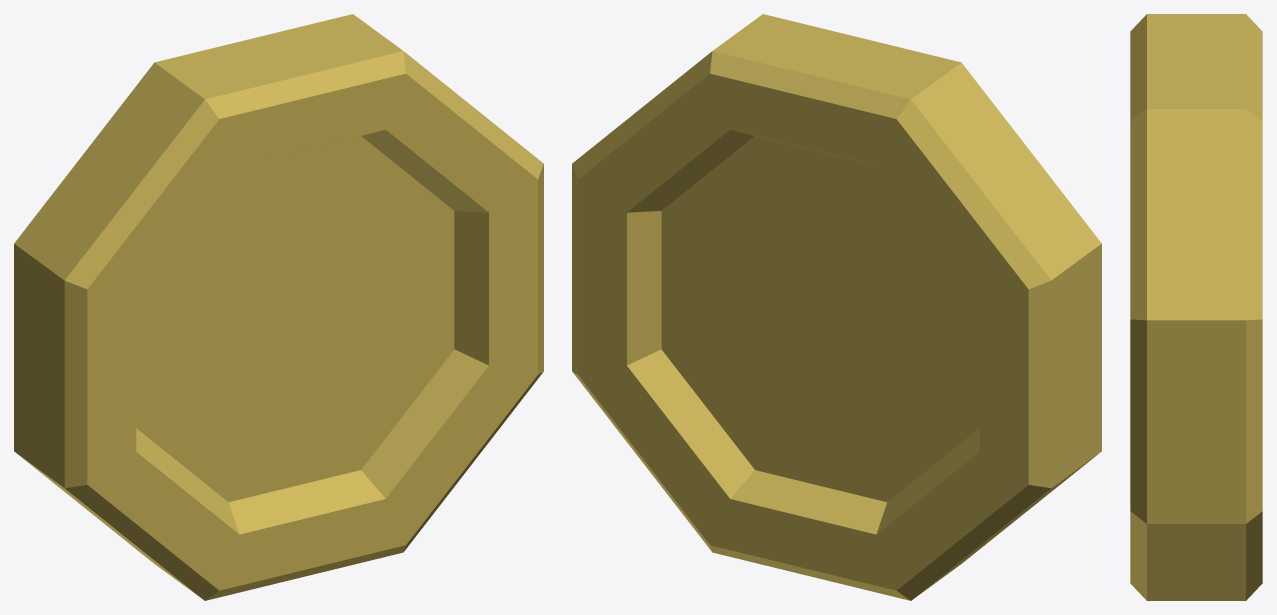
Rendered from Coin_3.fbx.
3 renders of one model, left to right at view 1: azimuth 30°, elevation 25°; view 2: azimuth 150°, elevation 25°; view 3: azimuth 270°, elevation 25°, orthographic.
Parts seen in each view (by area): view 1: Coin_3; view 2: Coin_3; view 3: Coin_3.
Part boxes in pixels (x1,y1,x2,y2): Coin_3: (14, 14, 543, 600); Coin_3: (572, 14, 1101, 600); Coin_3: (1130, 14, 1262, 600).
Bounding box in the file's own units: 73.91 × 73.91 × 18.
